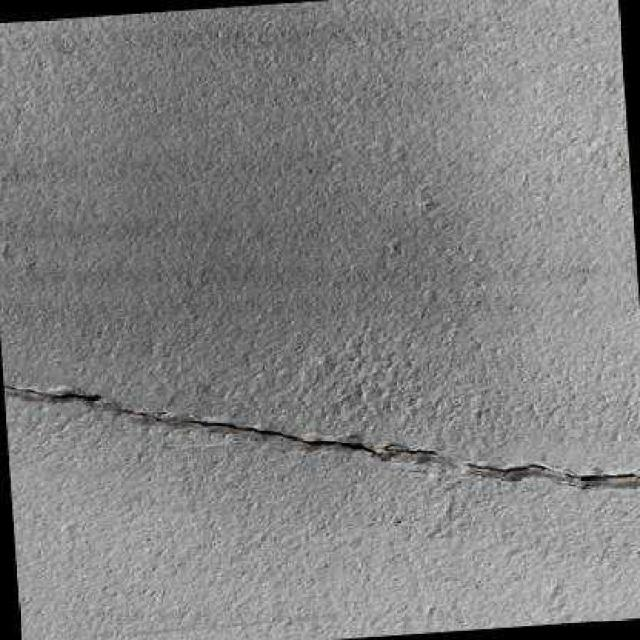D00: (181, 417, 382, 453), (464, 461, 636, 479), (4, 383, 101, 398), (386, 446, 438, 454)
